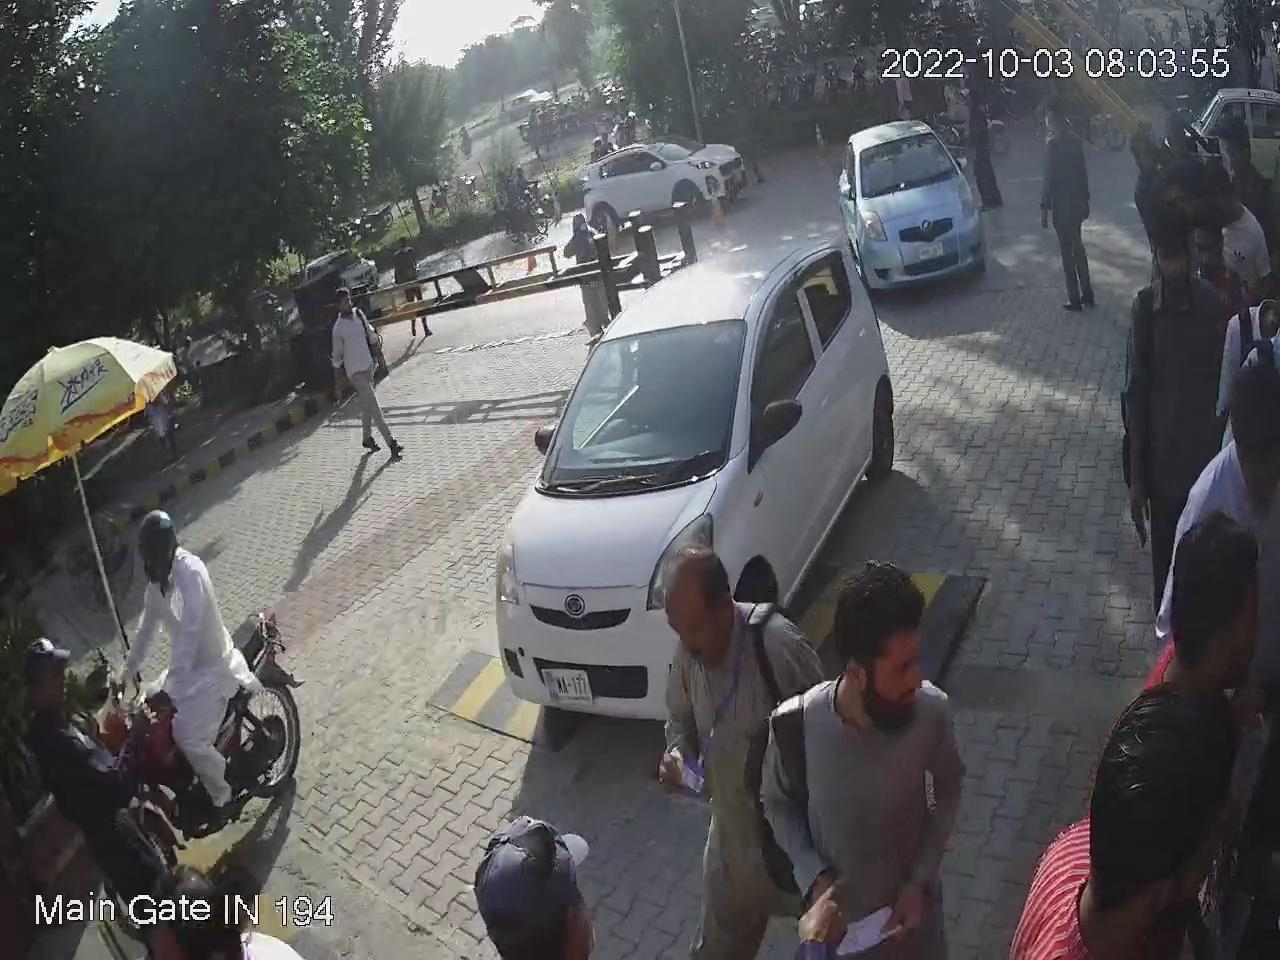windshield: (533, 308, 756, 492), (859, 128, 966, 209)
